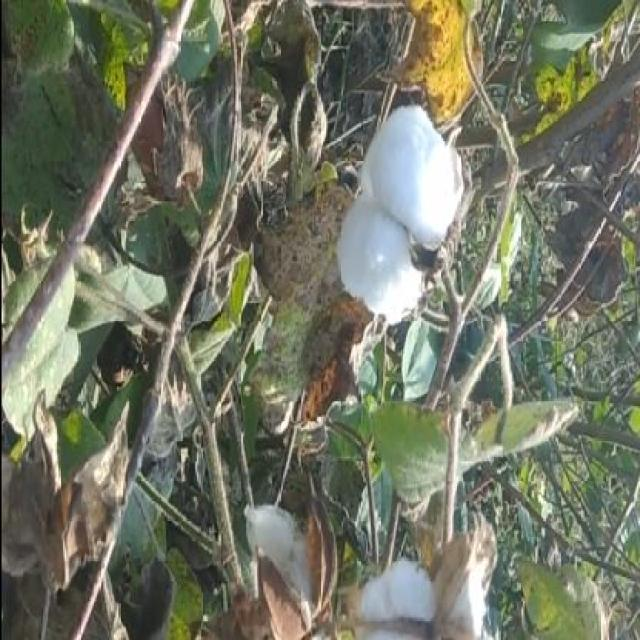cotton_ready: (328, 97, 478, 331)
